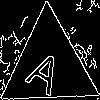A: (24, 40, 70, 97)
